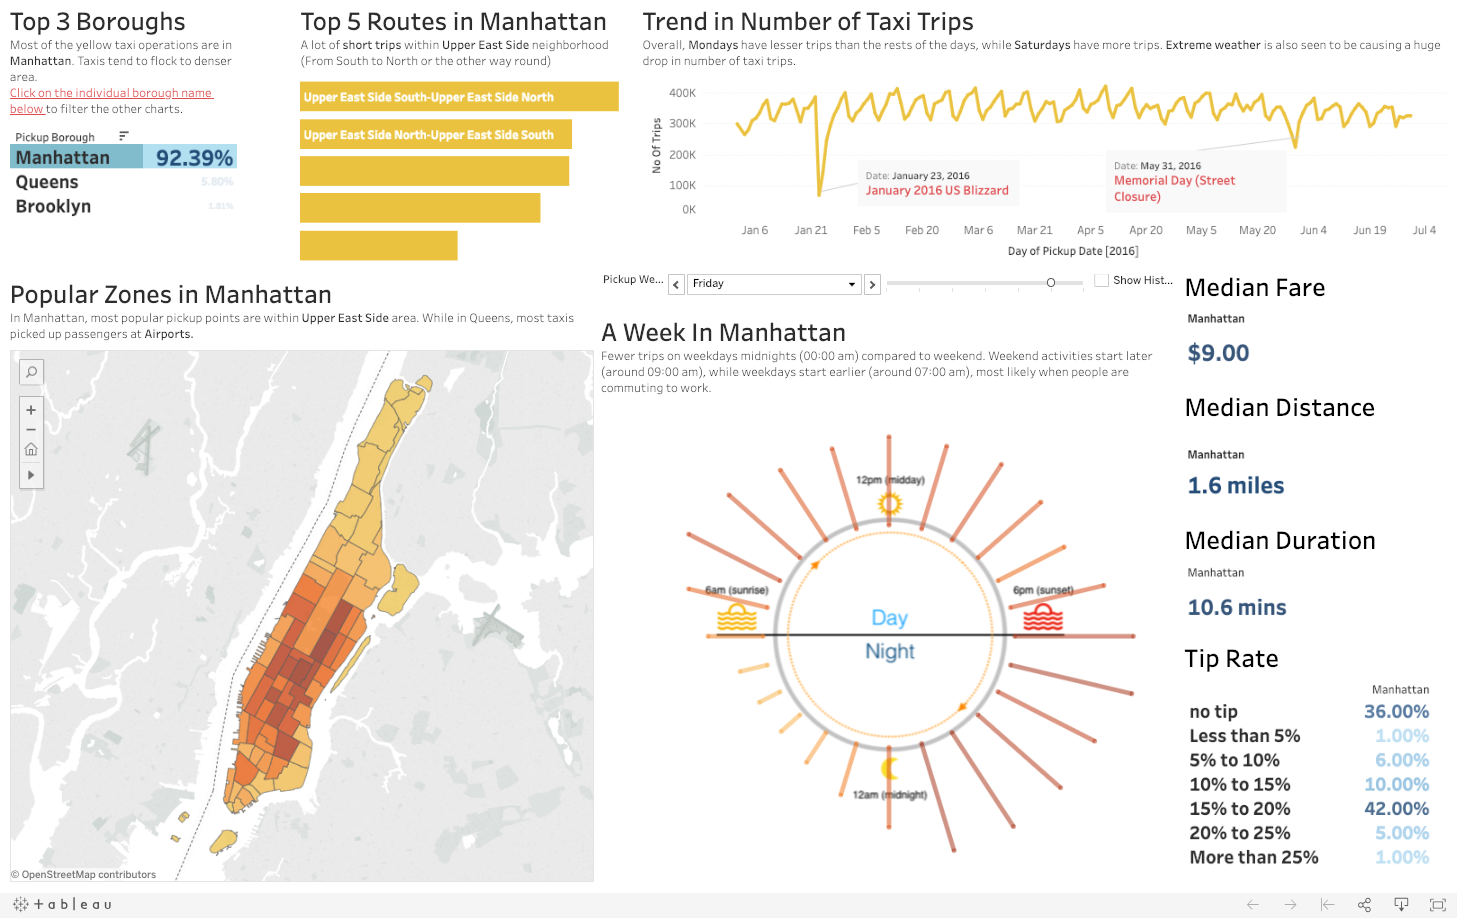

What the dashboard file says about the page in this screenshot:
{"tool":"tableau","page":{"name":"Dashboard 1","canvas":[1000,1000],"units":"permille","ordinal":0},"visuals":[{"type":"text","box":[4.9,7.5,990.1,50.6]},{"type":"worksheet","title":"Top 3 Borough","mark":"Text","rows":["pickup_borough"],"box":[4.9,58.1,199.4,286.4]},{"type":"worksheet","title":"Top Route by Borough","mark":"Bar","rows":["pickup_borough","route_zone_name"],"box":[204.3,58.1,234.6,286.4]},{"type":"worksheet","title":"Trend","mark":"Automatic","rows":["no_of_trips"],"cols":["pickup_date"],"box":[438.9,58.1,556.2,286.4]},{"type":"worksheet","title":"Popular Zones","mark":"Multipolygon","box":[4.9,344.6,405.5,647.9]},{"type":"currpage","title":"A Week Activity","box":[410.4,344.6,400,39.5]},{"type":"text","box":[810.4,344.6,184.6,39.5]},{"type":"worksheet","title":"A Week Activity","mark":"Line","box":[410.4,384.1,400,608.4]},{"type":"worksheet","title":"Median Fare Amount","mark":"Text","cols":["pickup_borough"],"box":[810.4,384.1,184.6,84]},{"type":"text","box":[810.4,468.1,184.6,44.5]},{"type":"worksheet","title":"Trip Distance","mark":"Text","cols":["pickup_borough"],"box":[810.4,512.6,184.6,95.1]},{"type":"text","box":[810.4,607.8,184.6,42.5]},{"type":"worksheet","title":"Trip Duration","mark":"Automatic","cols":["pickup_borough"],"box":[810.4,650.3,184.6,84]},{"type":"text","box":[810.4,734.3,184.6,38.5]},{"type":"worksheet","title":"Tip Rate","mark":"Text","rows":["tip_category"],"cols":["pickup_borough"],"box":[810.4,772.8,184.6,219.7]}]}

Visuals, with their boxes on the dashboard's canvas, which has no fixed pixel size, in thousandths of its width and height (x1, y1, x2, y2). These are canvas units, not pixel positions in the 1461x924 screenshot, which may show the page scaled, cropped or inside an application window:
text: bbox=[5, 8, 995, 58]
"Top 3 Borough" worksheet (Text marks): bbox=[5, 58, 204, 344]
"Top Route by Borough" worksheet (Bar marks): bbox=[204, 58, 439, 344]
"Trend" worksheet: bbox=[439, 58, 995, 344]
"Popular Zones" worksheet (Multipolygon marks): bbox=[5, 345, 410, 992]
"A Week Activity" currpage: bbox=[410, 345, 810, 384]
text: bbox=[810, 345, 995, 384]
"A Week Activity" worksheet (Line marks): bbox=[410, 384, 810, 992]
"Median Fare Amount" worksheet (Text marks): bbox=[810, 384, 995, 468]
text: bbox=[810, 468, 995, 513]
"Trip Distance" worksheet (Text marks): bbox=[810, 513, 995, 608]
text: bbox=[810, 608, 995, 650]
"Trip Duration" worksheet: bbox=[810, 650, 995, 734]
text: bbox=[810, 734, 995, 773]
"Tip Rate" worksheet (Text marks): bbox=[810, 773, 995, 992]
